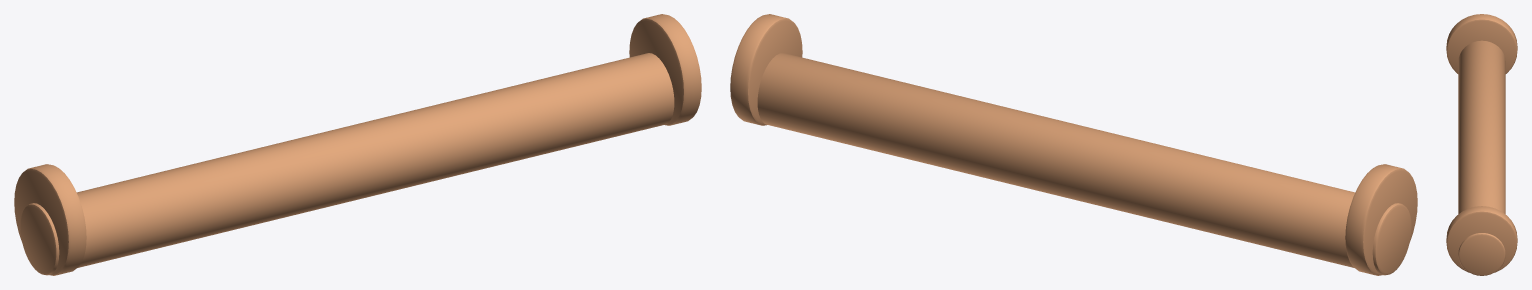
File: pipe.glb
3 renders of one model, left to right at view 1: azimuth 30°, elevation 25°; view 2: azimuth 150°, elevation 25°; view 3: azimuth 270°, elevation 25°, orthographic. The views are drawn at different scales.
Visible parts, largest first — view 1: pipe, flange-0.48, flange0.48; view 2: pipe, flange-0.48, flange0.48; view 3: pipe, flange0.48, flange-0.48.
Boxes of the visible parts, x1,y1,x2,y2 form: pipe: [20, 53, 674, 275]; flange-0.48: [14, 164, 86, 275]; flange0.48: [629, 14, 701, 125]; pipe: [757, 53, 1411, 275]; flange-0.48: [1345, 164, 1417, 275]; flange0.48: [730, 14, 802, 125]; pipe: [1458, 40, 1505, 275]; flange0.48: [1446, 206, 1517, 272]; flange-0.48: [1446, 14, 1517, 73].
Size of the model in its own units: 1 by 0.15 by 0.15.
